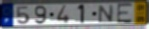1: (77, 4, 86, 25)
4: (56, 5, 72, 25)
5: (15, 5, 31, 25)
9: (33, 5, 48, 25)
E: (117, 2, 134, 25)
N: (97, 4, 115, 24)
